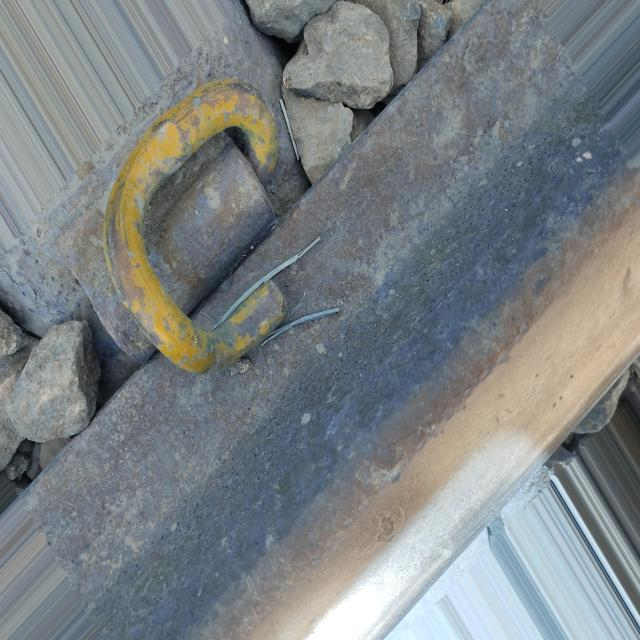Good Fasteners: (50, 79, 285, 373)
